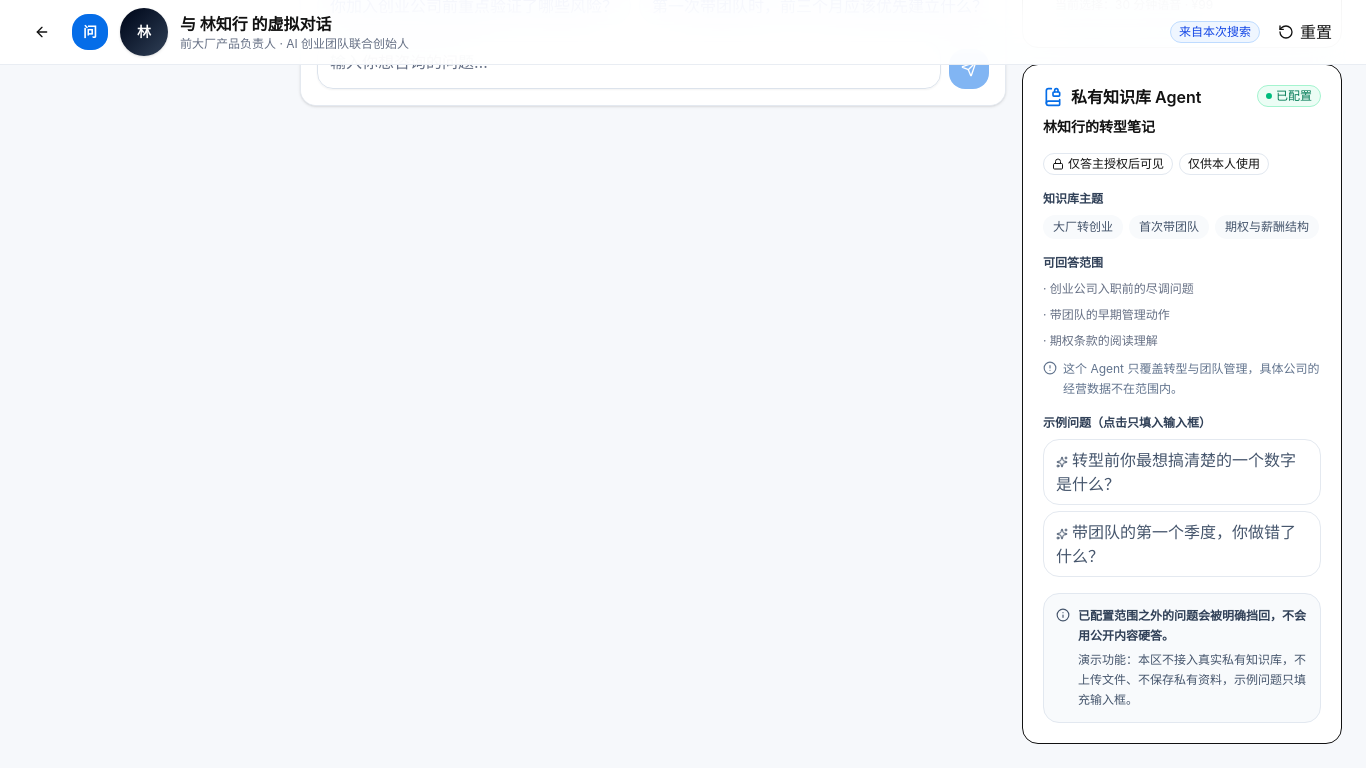
Test: 聊天页里的私有 Agent 展示 › 示例问题点进输入框后不自动发送
This screenshot has width=1366, height=768.
(page scrolled)
Expected: the text "与 林知行 的虚拟对话" is shown, top-left (180, 14), bottom-right (332, 34)
Click the button "转型前你最想搞清楚的一个数字是什么？". click: (1182, 472)
box: top-left (1043, 439), bottom-right (1321, 505)
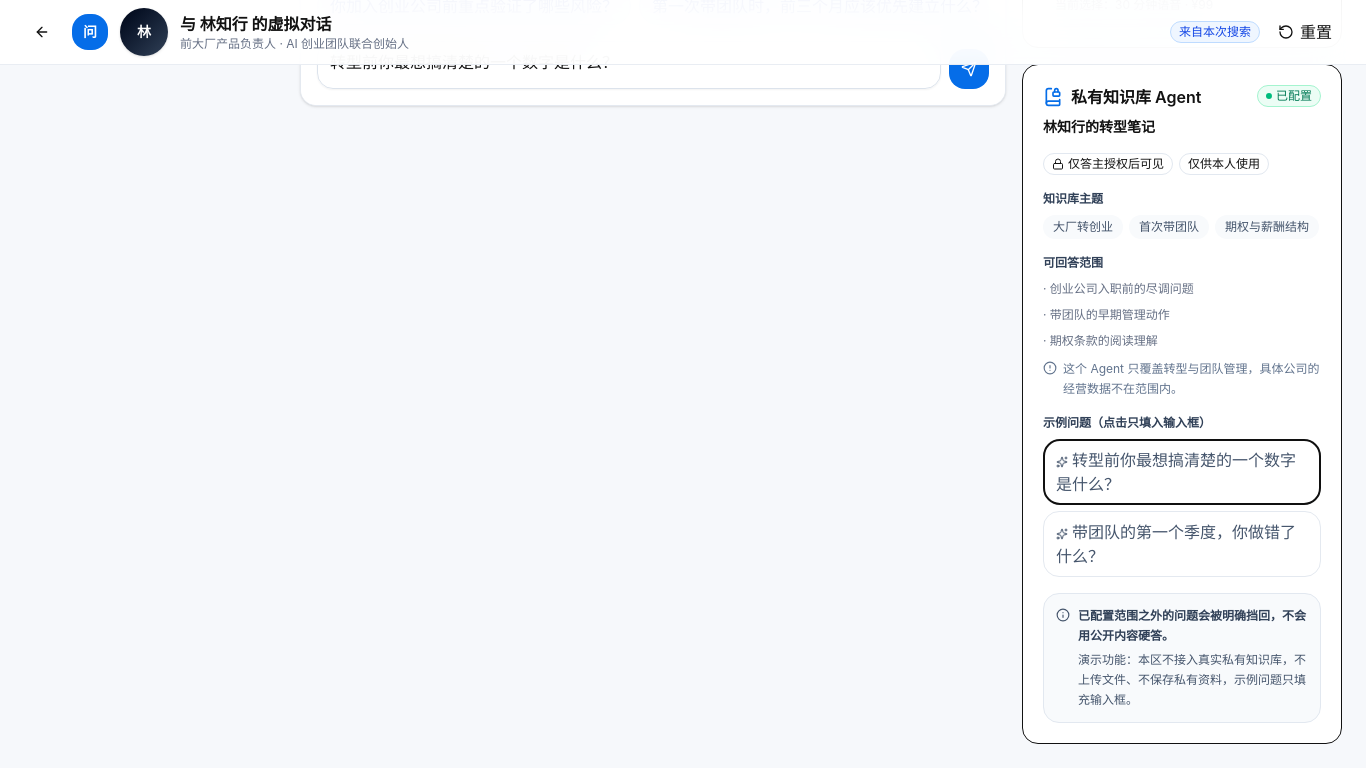
Expected: the text box named "消息输入框" holds "转型前你最想搞清楚的一个数字是什么？", top-left (317, 41), bottom-right (941, 89)
